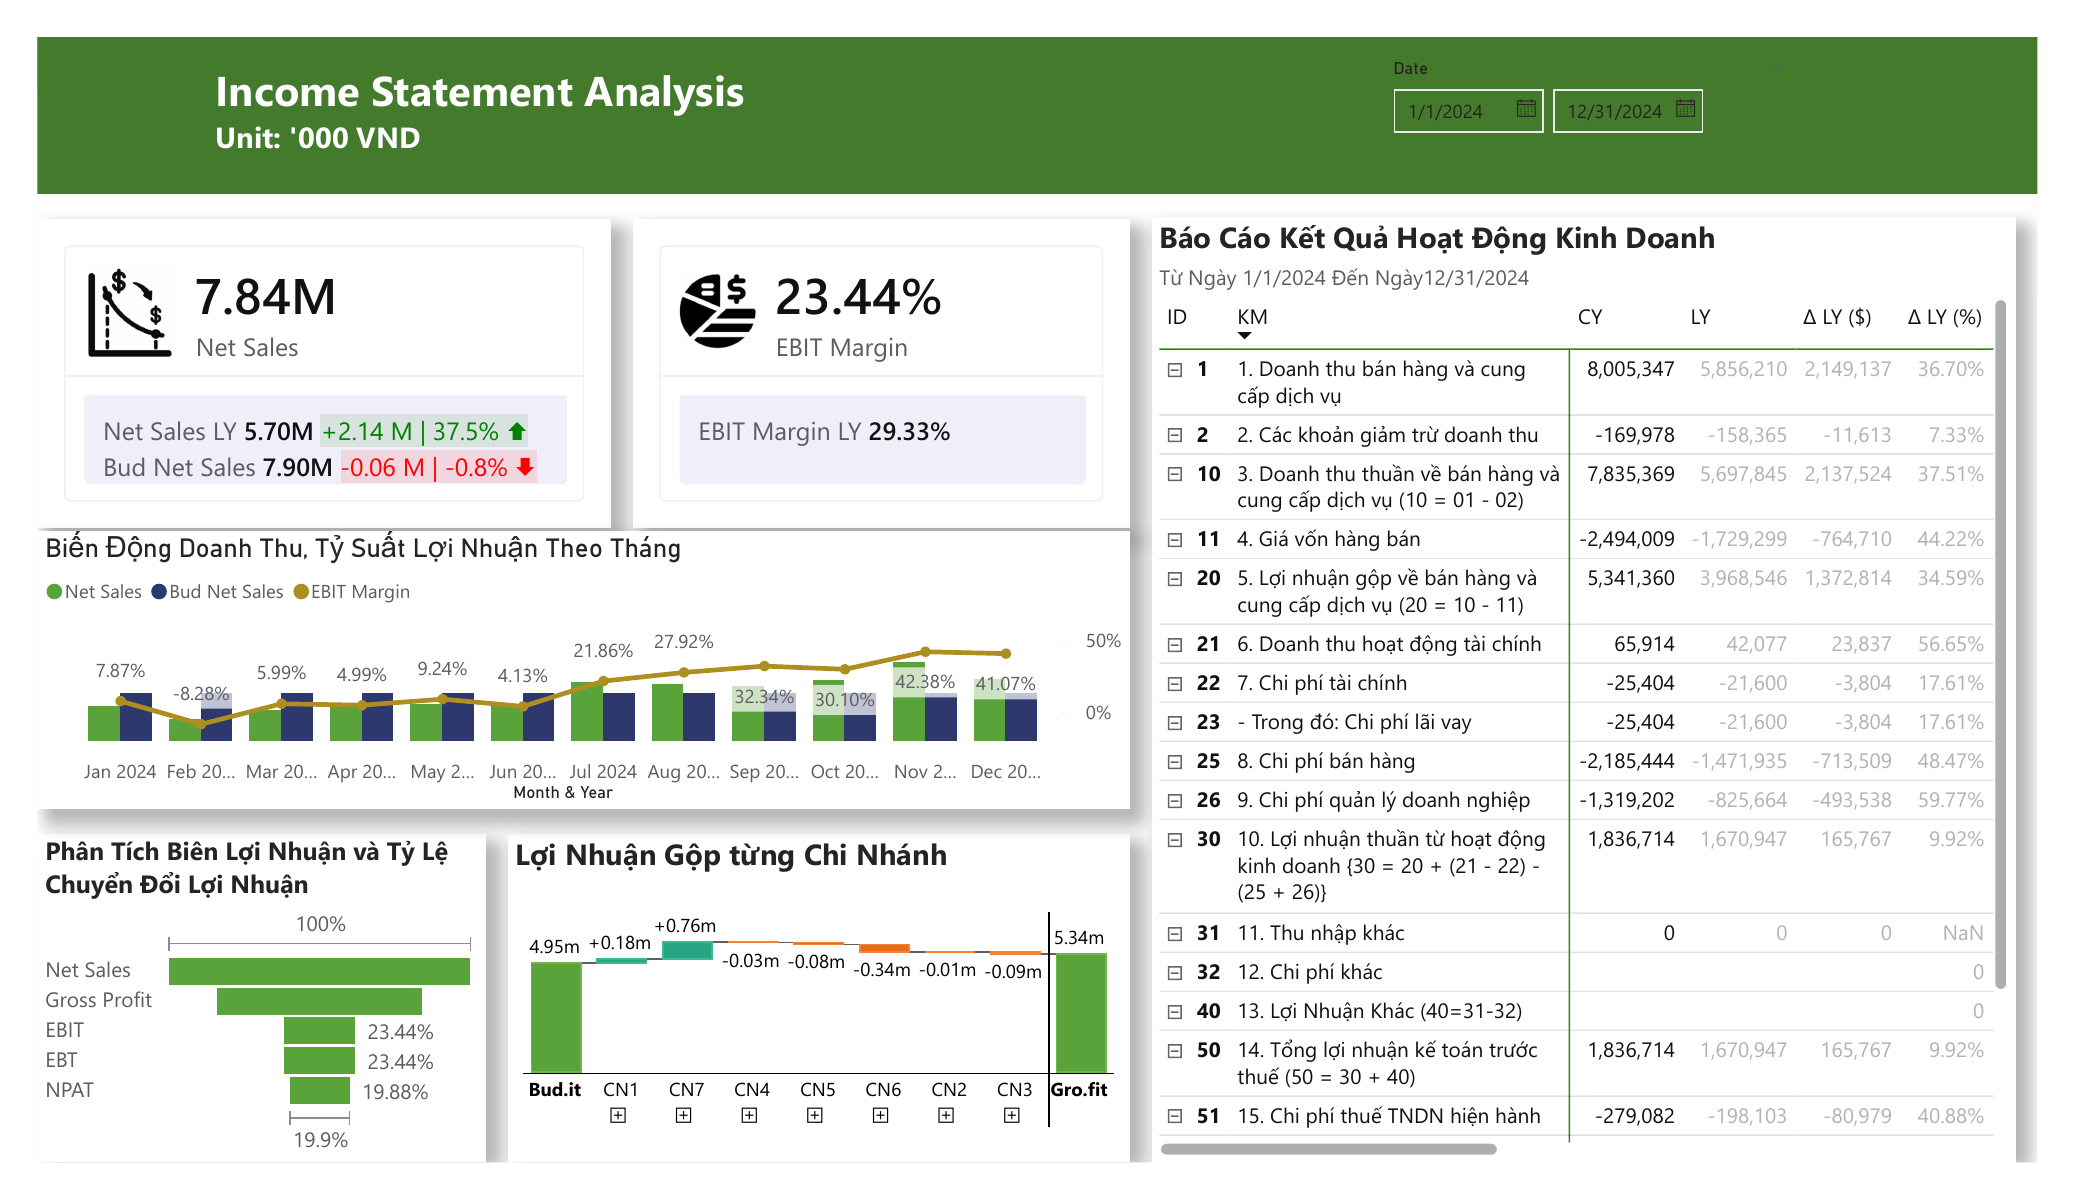

The dashboard page shown, as its layout file describes it:
{"tool":"powerbi","page":{"name":"2.2Income Statement Analysis","canvas":[1280,720],"ordinal":2},"visuals":[{"type":"shape","box":[0,0,2100,100],"z":0},{"type":"slicer","fields":{"Values":["Calendar.Date"]},"box":[1004,13.5,277,80.1],"z":1000},{"type":"textbox","box":[109.4,10.1,384.8,81],"z":2000},{"type":"pivotTable","title":"Báo Cáo Kết Quả Hoạt Động Kinh Doanh","fields":{"Rows":["1  IS_Temp.ID","1  IS_Temp.KM"],"Values":["0. Metrics.IS Amount","0. Metrics.IS Amount LY","0. Metrics.IS Amount Vs. LY","0. Metrics.IS Amount%","0. Metrics.IS vs Ly 2","0. Metrics.Bud IS Amount","0. Metrics.IS Vs. Bud","0. Metrics.IS Vs. Budget%","0. Metrics.IS Vs. Bud% 2"]},"box":[640,99.2,640,397],"z":4000},{"type":"funnel","fields":{"Y":["0. Metrics.Net Sales","0. Metrics.Gross Profit","0. Metrics.EBIT","0. Metrics.EBT","0. Metrics.NPAT"]},"box":[0,507.2,301.3,212.4],"z":5000},{"type":"scatterChart","fields":{"Category":["Territory.Country"],"Y":["0. Metrics.EBIT Margin"],"X":["0. Metrics.Net Sales"]},"box":[316.1,506.7,316.1,213.5],"z":6000},{"type":"lineClusteredColumnComboChart","title":"Biến động doanh số và tỷ suất lợi nhuận","fields":{"Category":["Calendar.Month & Year"],"Y":["0. Metrics.Net Sales","0. Metrics.Bud Net Sales"],"Y2":["0. Metrics.EBIT Margin"]},"box":[0,269.9,631.9,216.8],"z":7000},{"type":"cardVisual","fields":{"Data":["0. Metrics.Net Sales"]},"box":[0,99.7,366.3,162.6],"z":8000},{"type":"cardVisual","fields":{"Data":["0. Metrics.EBIT Margin"]},"box":[372.8,100.1,259.4,161.7],"z":9000},{"type":"SimpleWaterfall","fields":{"category":["Territory.Country"],"measure":["0. Metrics.EBIT LY","0. Metrics.EBIT"]},"box":[639.4,506.7,640.6,212.3],"z":10000},{"type":"slicer","fields":{"Values":["Territory.Country"]},"box":[726.7,14.2,277.5,79],"z":11000}]}

Visuals, with their boxes on the page's 1280x720 design canvas (x1, y1, x2, y2). These are canvas units, not pixel positions in the 2075x1200 screenshot, which may show the page scaled, cropped or inside an application window:
shape: BBox(0, 0, 2100, 100)
slicer - Calendar.Date: BBox(1004, 14, 1281, 94)
textbox: BBox(109, 10, 494, 91)
"Báo Cáo Kết Quả Hoạt Động Kinh Doanh" pivotTable: BBox(640, 99, 1280, 496)
funnel - 0. Metrics.Net Sales x 0. Metrics.Gross Profit: BBox(0, 507, 301, 720)
scatterChart - Territory.Country x 0. Metrics.EBIT Margin: BBox(316, 507, 632, 720)
"Biến động doanh số và tỷ suất lợi nhuận" lineClusteredColumnComboChart: BBox(0, 270, 632, 487)
cardVisual - 0. Metrics.Net Sales: BBox(0, 100, 366, 262)
cardVisual - 0. Metrics.EBIT Margin: BBox(373, 100, 632, 262)
SimpleWaterfall - Territory.Country x 0. Metrics.EBIT LY: BBox(639, 507, 1280, 719)
slicer - Territory.Country: BBox(727, 14, 1004, 93)
